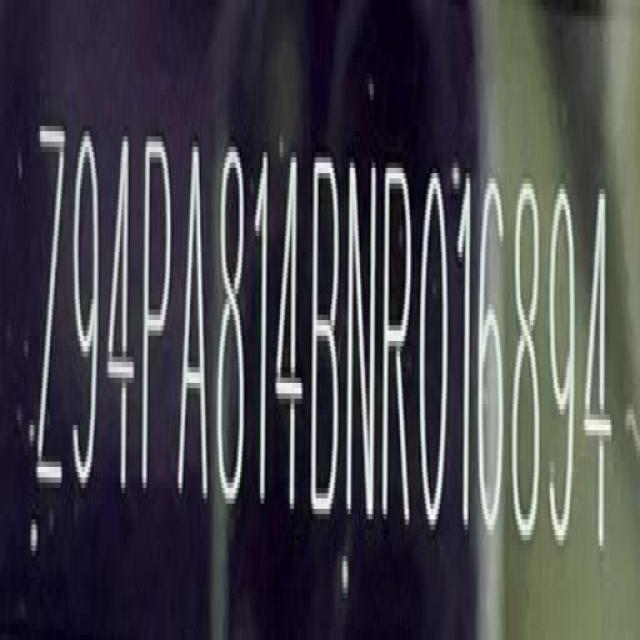0: (420, 163, 452, 542)
1: (254, 145, 273, 520), (456, 164, 474, 539)
4: (584, 187, 618, 562), (106, 128, 137, 510), (277, 144, 308, 524)
6: (476, 168, 506, 542)
8: (215, 144, 249, 514), (513, 175, 544, 548)
9: (71, 121, 102, 503), (550, 181, 580, 554)
A: (180, 134, 213, 511)
B: (310, 152, 343, 528)
N: (348, 152, 381, 531)
P: (143, 131, 175, 512)
R: (384, 158, 417, 539)
Z: (36, 116, 69, 508)
